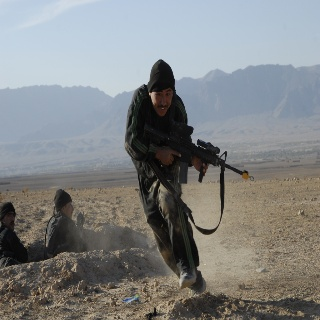rifle: (143, 119, 257, 188)
